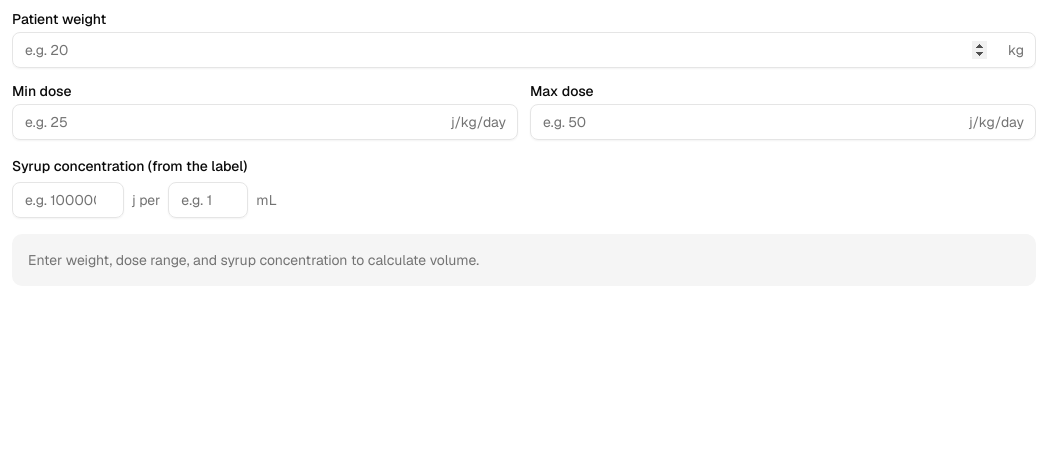
Scenario: SyrupDosageCalculator › computes the daily dose and per-frequency volume ranges
Type "20" into the number field labelled "Patient weight".
click(524, 50); type("20")  # box [12,32,1036,68]
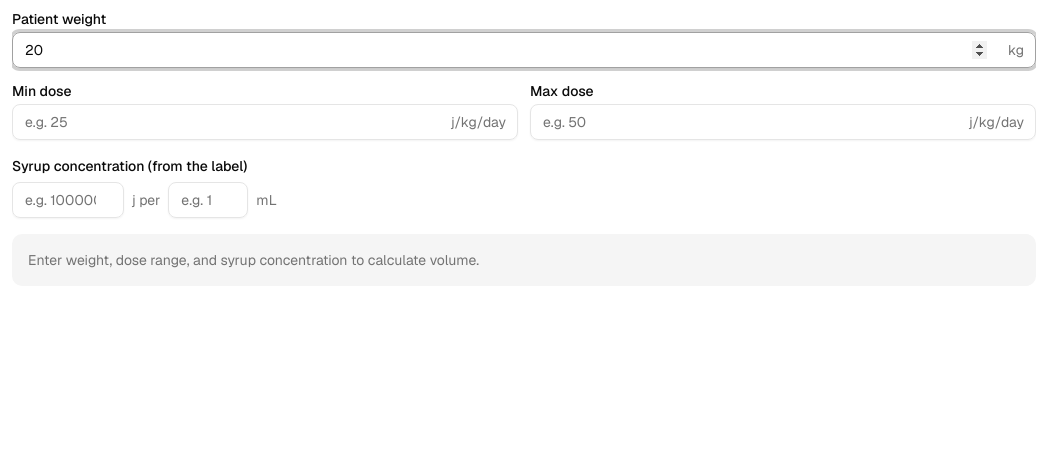
Type "15" into the number field labelled "Min dose".
click(265, 122); type("15")  # box [12,104,518,140]
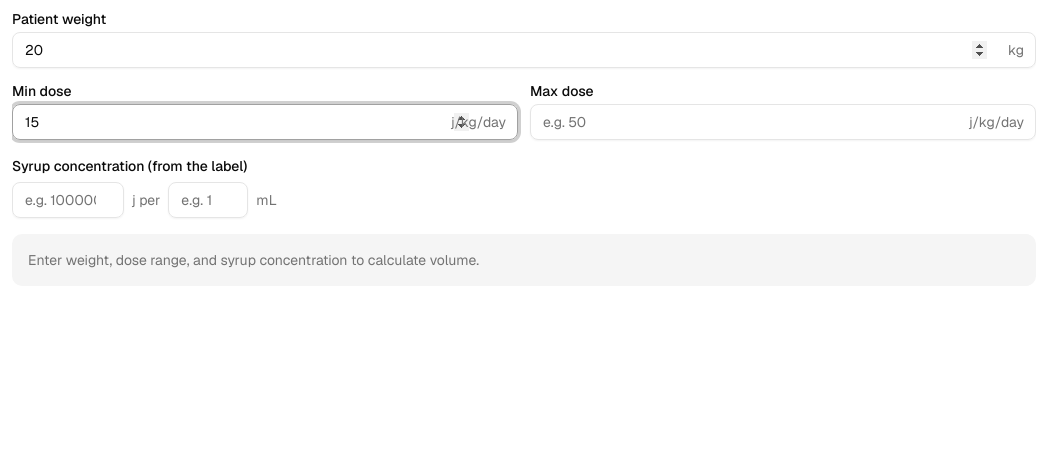
Type "30" into the number field labelled "Max dose".
click(783, 122); type("30")  # box [530,104,1036,140]
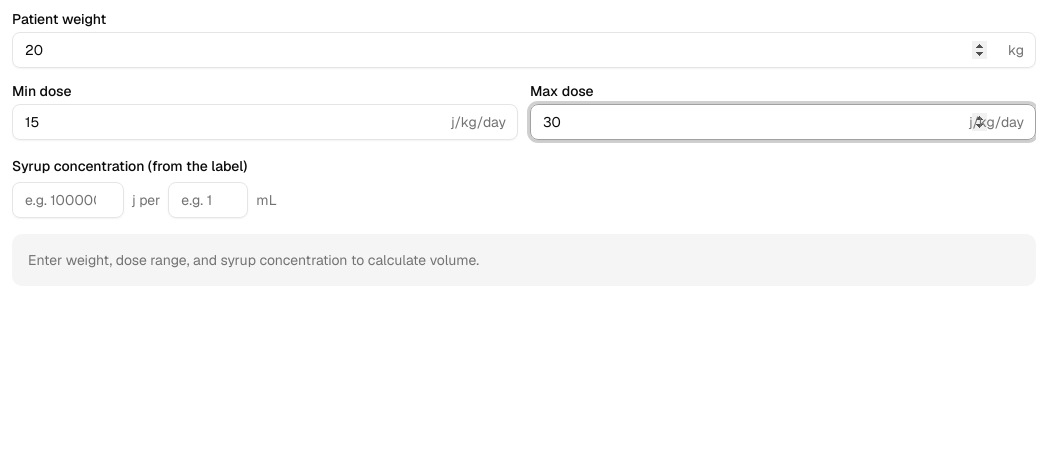
Type "250" into the number field named "concentration amount in units".
click(68, 200); type("250")  # box [12,182,124,218]
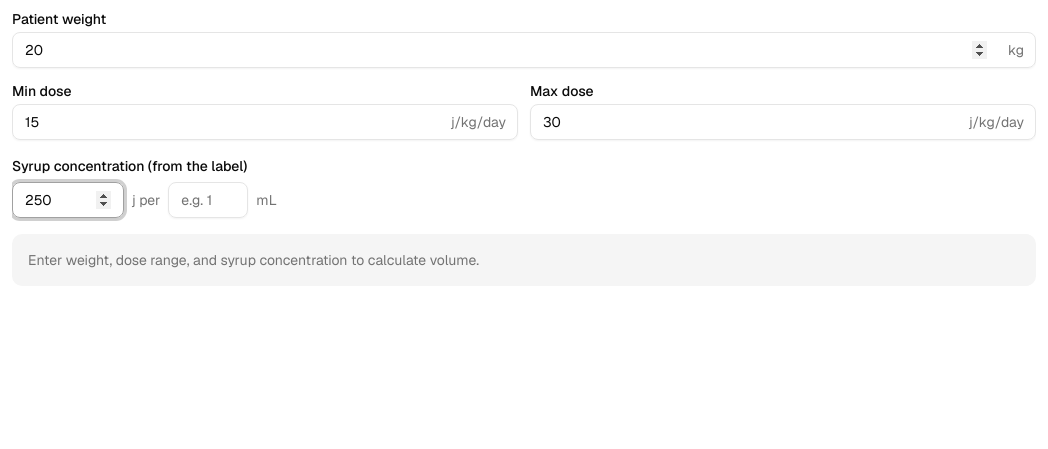
Type "5" into the number field named "concentration volume in milliliters".
click(208, 200); type("5")  # box [168,182,248,218]
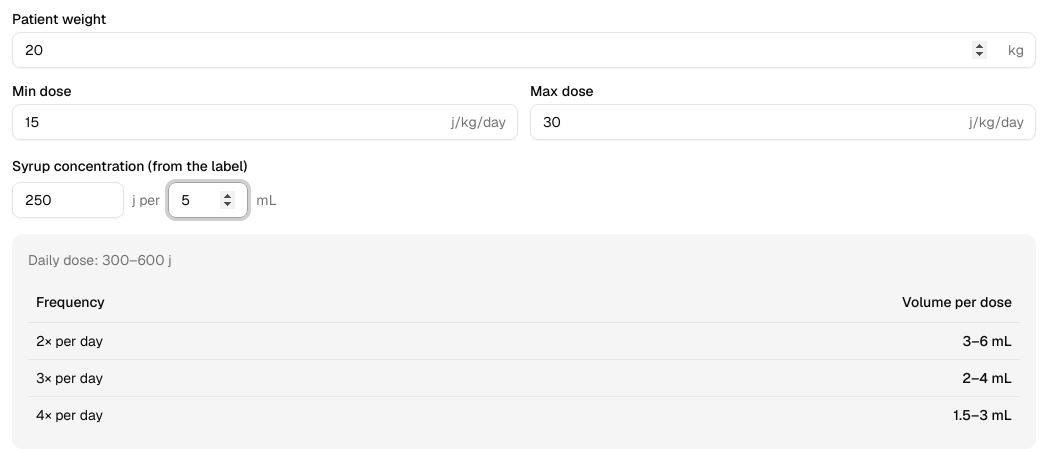
Expected: the text "Daily dose: 300–600 j" is shown, [28,251,172,269]
Expected: the text "3–6 mL" is shown, [427,322,1020,359]
Expected: the text "2–4 mL" is shown, [427,359,1020,396]
